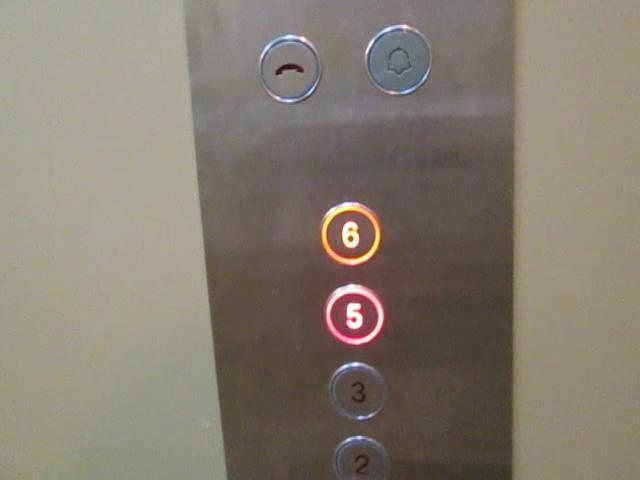2: (331, 433, 396, 480)
3: (326, 360, 390, 421)
5: (323, 282, 386, 346)
6: (318, 200, 384, 269)
alarm: (363, 21, 433, 96)
call: (255, 33, 323, 103)
